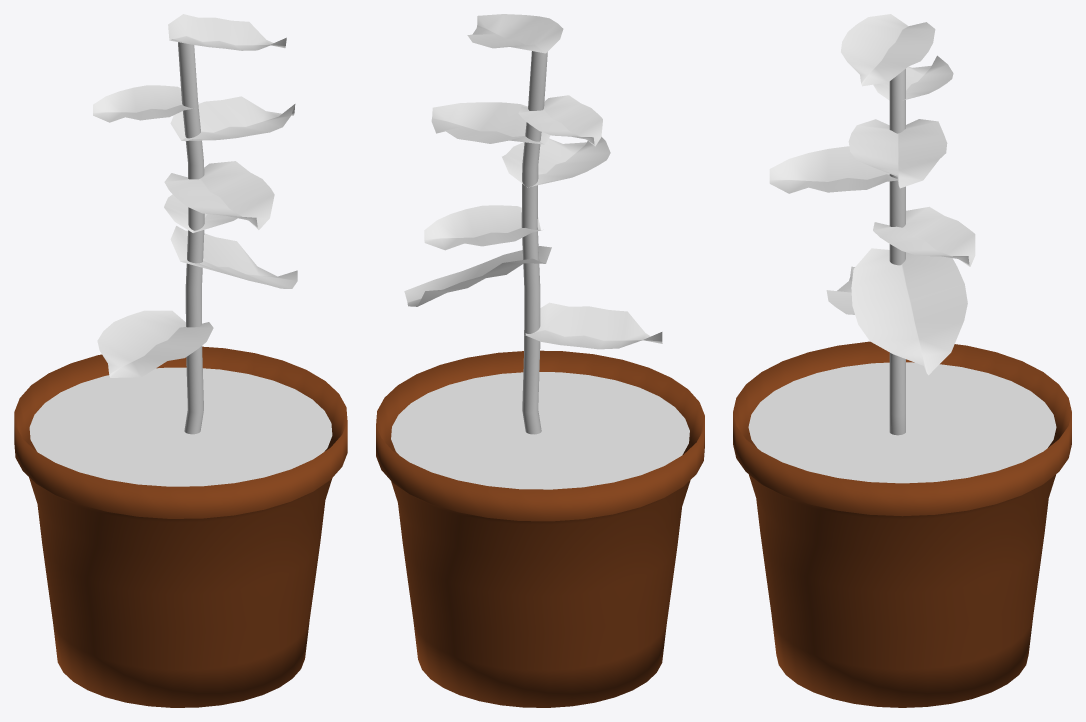
The model's file is planta.fbx.
3 renders of one model, left to right at view 1: azimuth 30°, elevation 25°; view 2: azimuth 150°, elevation 25°; view 3: azimuth 270°, elevation 25°, orthographic. The views are drawn at different scales.
Parts seen in each view (by area): view 1: Cylinder, Cylinder.001, Cylinder.002, Plane.006, Plane, Plane.003, Plane.001, Plane.004, Plane.002, Plane.005; view 2: Cylinder, Cylinder.001, Cylinder.002, Plane.006, Plane.005, Plane.003, Plane, Plane.004, Plane.002, Plane.001; view 3: Cylinder, Cylinder.001, Plane.001, Plane.004, Plane.003, Plane, Plane.005, Cylinder.002, Plane.002, Plane.006.
Boxes of the visible parts, x1,y1,x2,y2 form: Cylinder: (14, 346, 347, 707); Cylinder.001: (29, 367, 332, 486); Cylinder.002: (178, 42, 204, 434); Plane.006: (97, 310, 213, 377); Plane: (164, 161, 274, 229); Plane.003: (170, 96, 295, 140); Plane.001: (170, 226, 297, 288); Plane.004: (168, 14, 286, 50); Plane.002: (93, 85, 194, 122); Plane.005: (164, 194, 237, 232); Cylinder: (376, 350, 704, 707); Cylinder.001: (391, 372, 689, 489); Cylinder.002: (521, 51, 547, 434); Plane.006: (525, 302, 662, 349); Plane.005: (424, 205, 541, 250); Plane.003: (431, 102, 550, 144); Plane: (502, 137, 610, 187); Plane.004: (467, 14, 563, 53); Plane.002: (518, 95, 602, 146); Plane.001: (404, 246, 551, 306); Cylinder: (733, 341, 1071, 707); Cylinder.001: (748, 362, 1056, 483); Plane.001: (851, 248, 967, 375); Plane.004: (841, 14, 935, 86); Plane.003: (848, 119, 947, 188); Plane: (769, 146, 897, 193); Plane.005: (873, 206, 975, 266); Cylinder.002: (889, 69, 905, 435); Plane.002: (873, 55, 953, 100); Plane.006: (826, 266, 854, 314).
Size of the model in its own units: 269 by 555 by 269.
